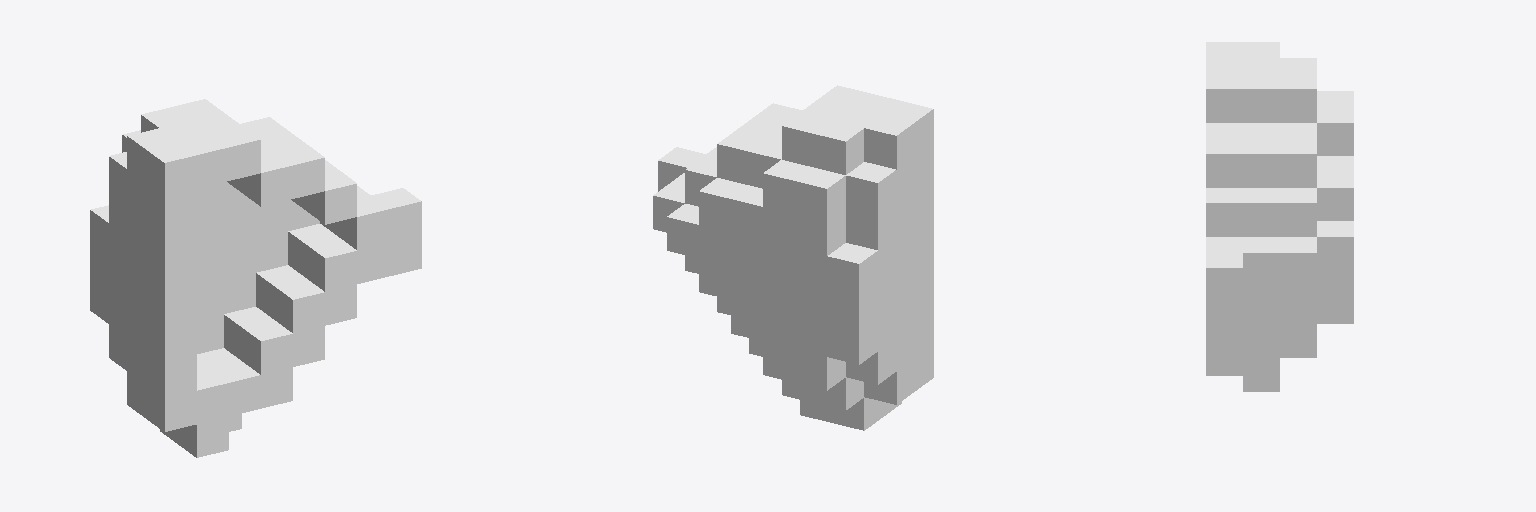
The model's file is kot-4.obj.
3 renders of one model, left to right at view 1: azimuth 30°, elevation 25°; view 2: azimuth 150°, elevation 25°; view 3: azimuth 270°, elevation 25°, orthographic.
Parts seen in each view (by area): view 1: object 1; view 2: object 1; view 3: object 1.
Part boxes in pixels (bbox=[...]): object 1: bbox=[90, 99, 421, 457]; object 1: bbox=[653, 85, 933, 430]; object 1: bbox=[1206, 42, 1353, 391].
Bounding box in the file's own units: 0.8 × 0.9 × 0.4.